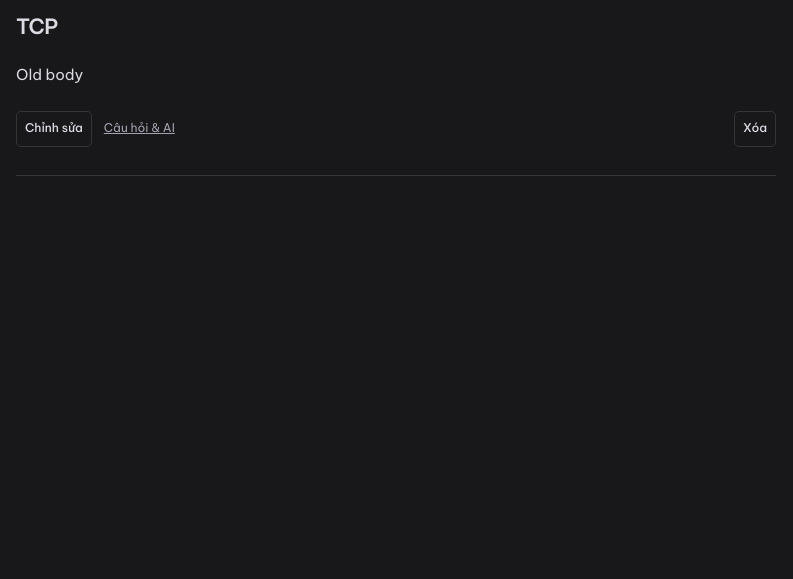
it: keeps edited text visible when saving fails
Click the button with aria-label "Chỉnh sửa TCP".
click(54, 129)  # box [16, 111, 92, 147]
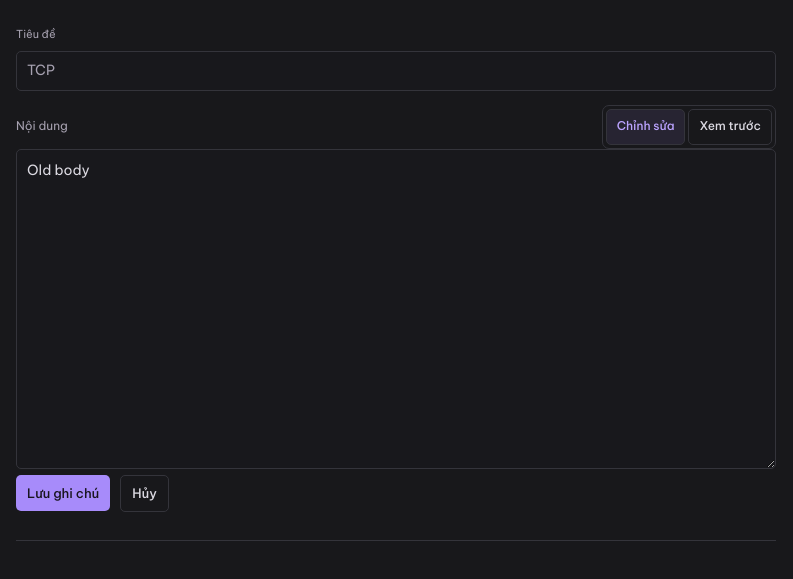
Replace the text in the text box labelled "Nội dung" with "Unsaved body" at [396, 309], box [16, 149, 776, 469]
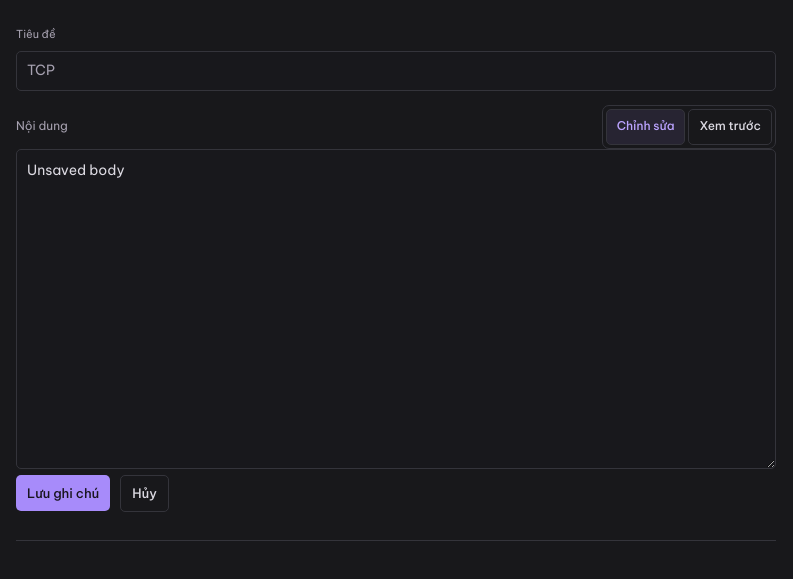
Click the button "Lưu ghi chú".
click(63, 494)  # box [16, 476, 110, 512]
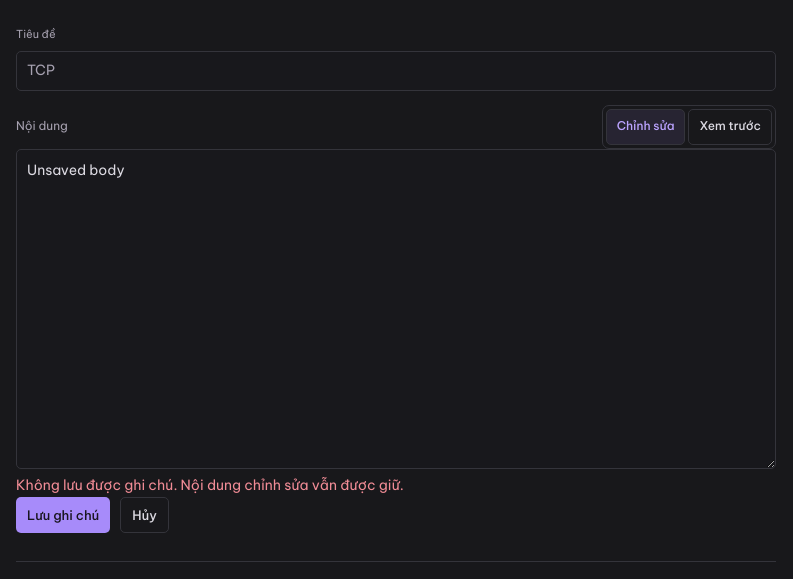
Expected: the message shows "Không lưu được", [16, 476, 404, 494]
